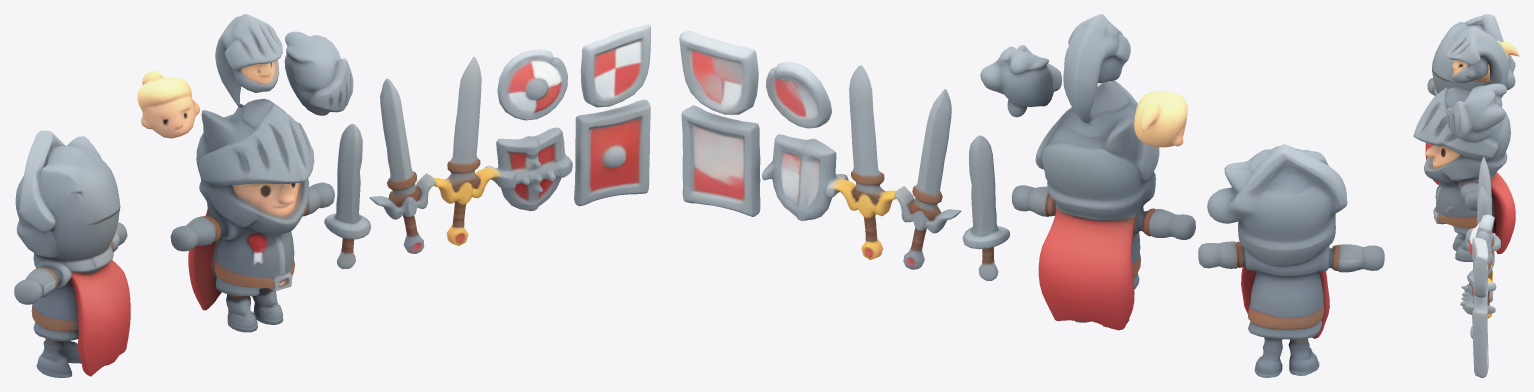
The model's file is ThanhGiong_IronHorse_base_basic_shaded.fbx.
The picture shows the model from 3 angles, left to right: view 1: azimuth 30°, elevation 25°; view 2: azimuth 150°, elevation 25°; view 3: azimuth 270°, elevation 25°; orthographic projection. The views are drawn at different scales.
Parts seen in each view (by area): view 1: model; view 2: model; view 3: model.
Boxes of the visible parts, <box> form: model: <box>14,14,650,377</box>; model: <box>679,14,1384,377</box>; model: <box>1413,14,1519,377</box>.
Size of the model in its own units: 190 by 83.06 by 35.58.
